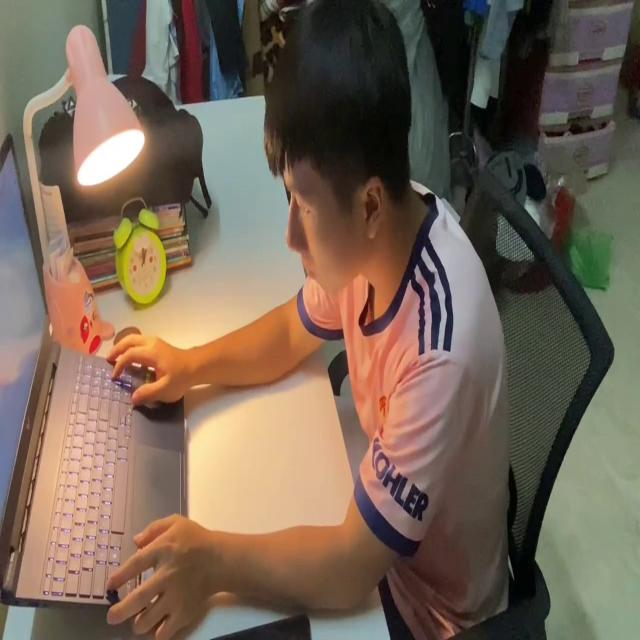book: (333, 388, 368, 490)
laptop: (1, 124, 195, 624)
phone: (214, 606, 312, 640)
student: (106, 0, 512, 640)
